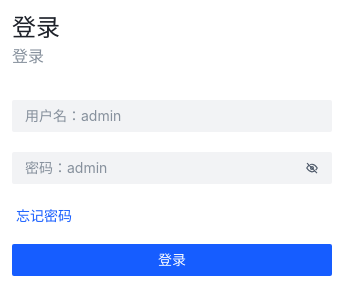
Scenario: Login › form
Click the button "登录": (172, 260) [12,244,332,276]
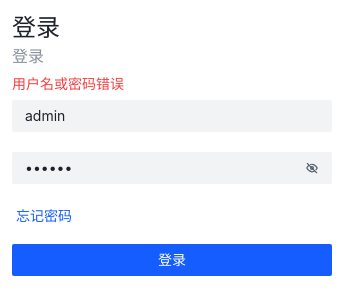
Result: the text "用户名或密码错误" is shown at [12,75,124,92]
